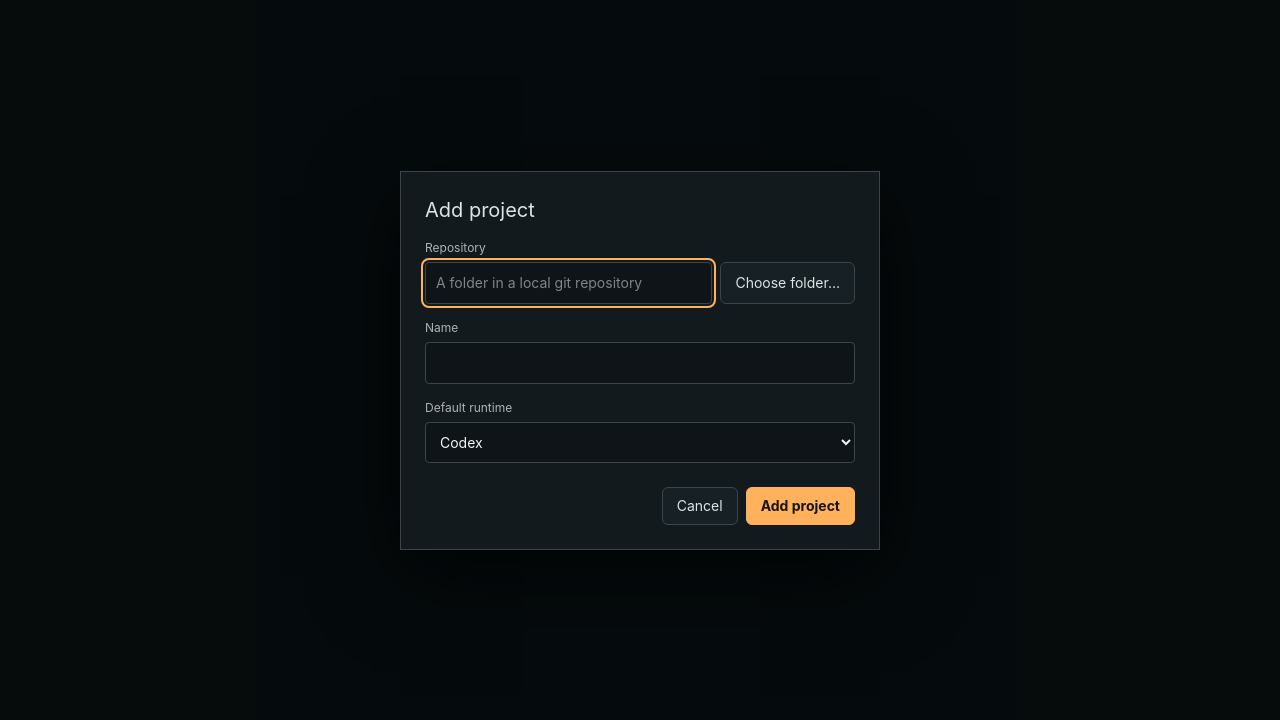
Test: AddProjectDialog › shows Go's reason a folder cannot be connected and keeps the add off
The image size is (1280, 720).
Type "/src/bakery" into the field named "Repository folder".
click(569, 282); type("/src/bakery")  # box [425, 262, 712, 304]
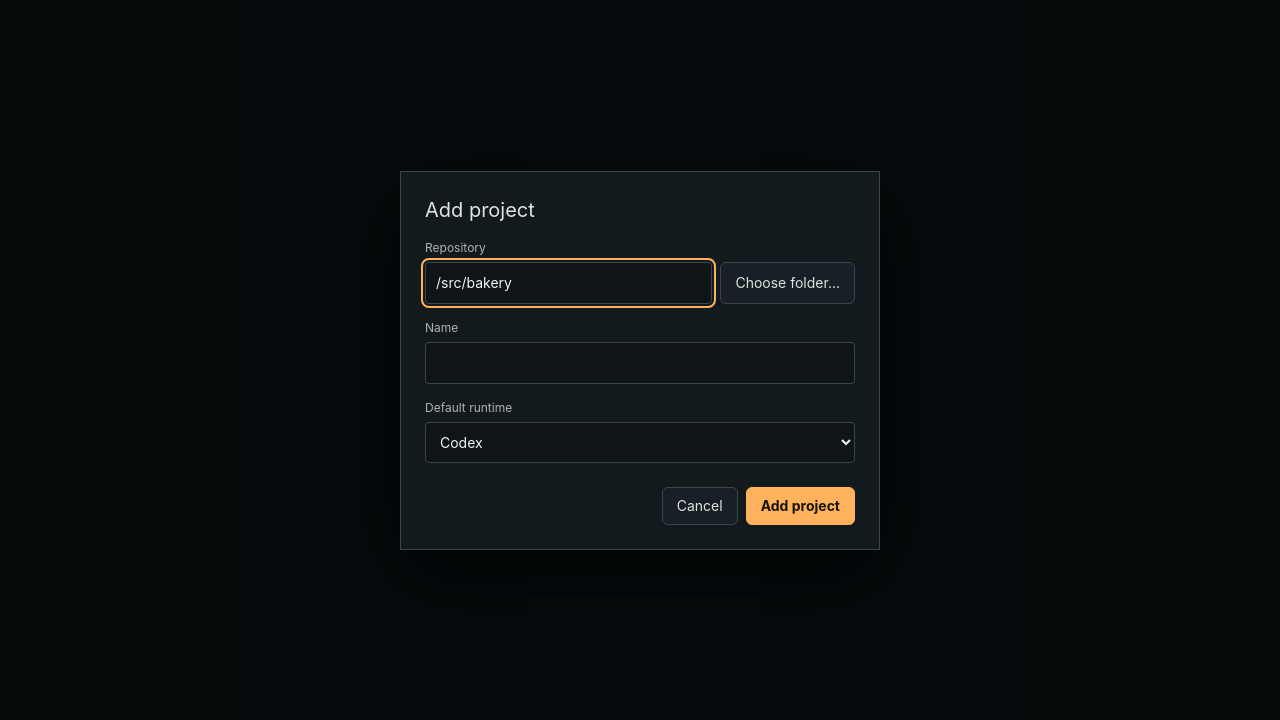
Leave the field named "Repository folder", box [425, 262, 712, 304]
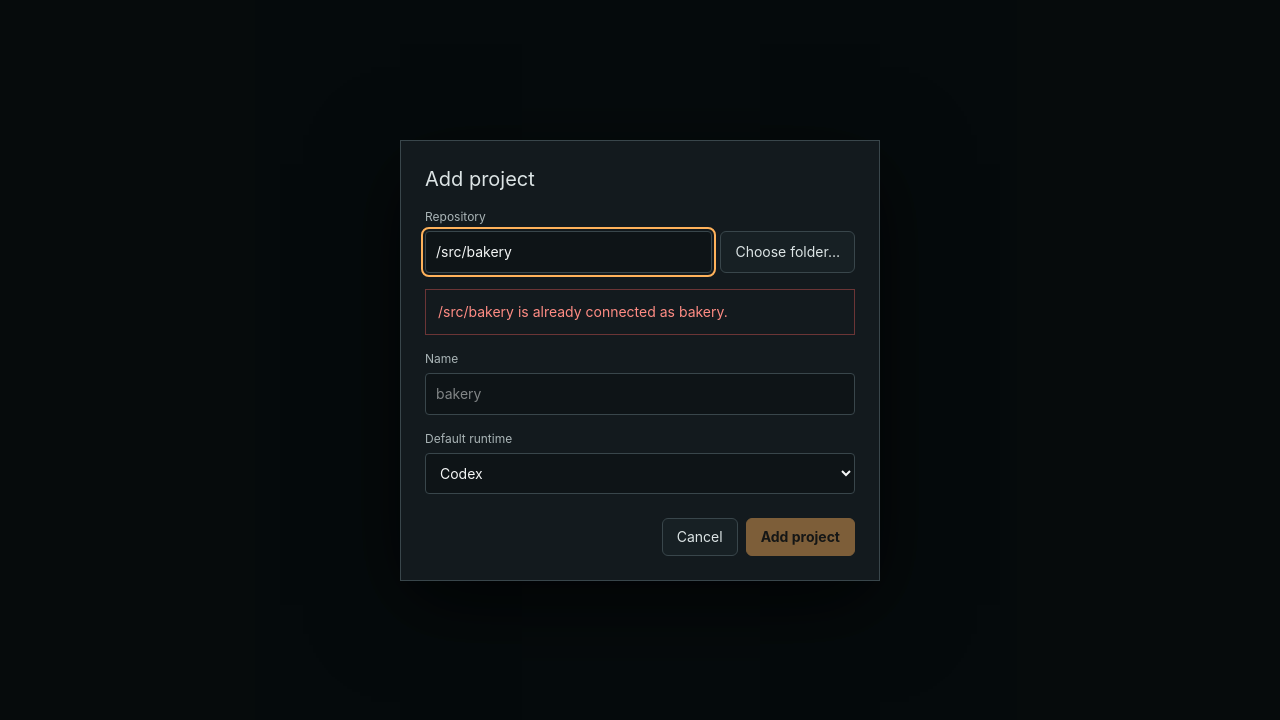
Check: the field labelled "Name" is empty, box [425, 372, 855, 414]
Check: the message shows "already connected as bakery", box [438, 302, 728, 320]
Check: the button "Add project" is disabled, box [746, 518, 855, 556]
